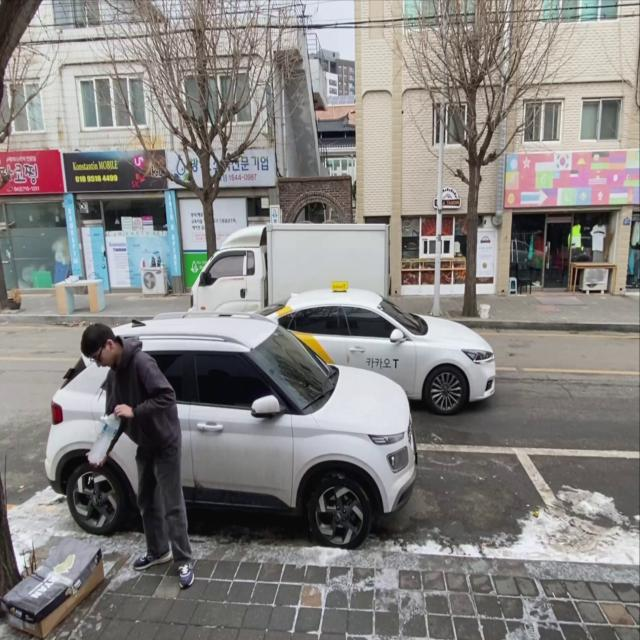bare_hand: (112, 400, 133, 420)
